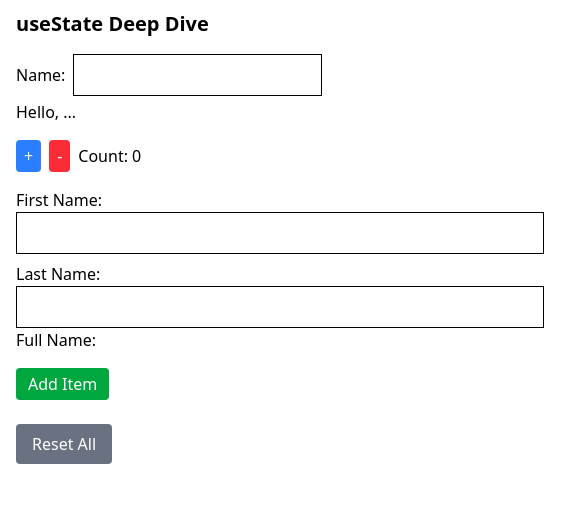
UseStateAdvanced › resets all state
Click the button "Add Item". click: click(63, 384)
box: [16, 368, 109, 400]
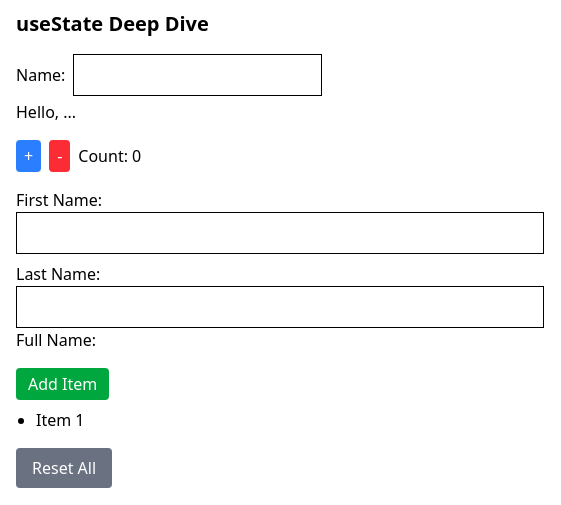
Type "Test" into the field labelled "Name:". click: (198, 75)
box: [73, 54, 322, 96]
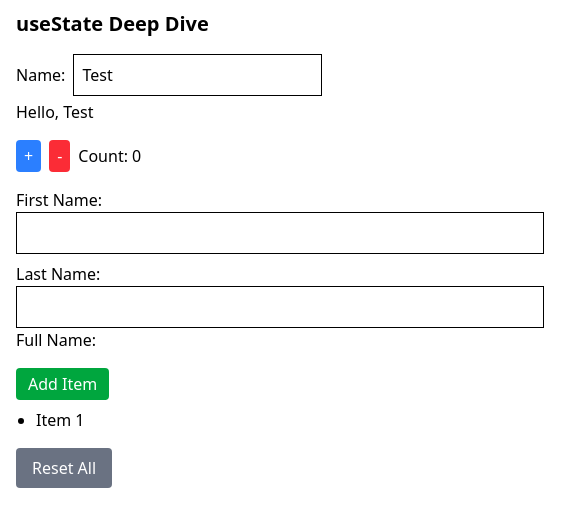
Click the button "Reset All". click: click(64, 468)
box: [16, 448, 112, 488]
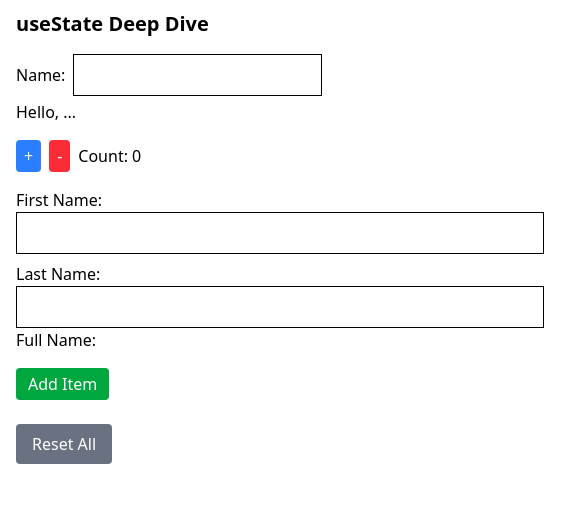
Expected: the text "Hello, ..." is shown, [16, 101, 76, 123]
Result: the list item "Item 1" is gone
